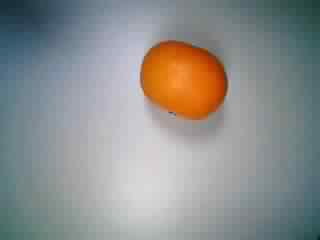orange: (136, 30, 227, 126)
